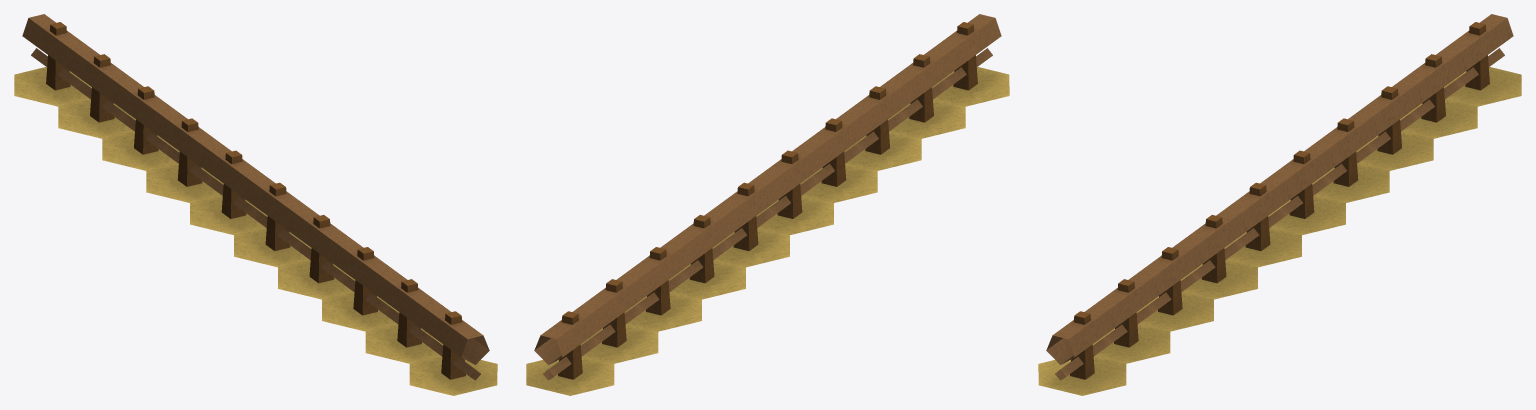
The model's file is BarriereDesert10_Centre.FBX.
3 views of the same model, side by side, from view 1: azimuth 30°, elevation 25°; view 2: azimuth 150°, elevation 25°; view 3: azimuth 330°, elevation 25° (orthographic).
Visible parts, largest first — view 1: BarriereDesert10_Centre; view 2: BarriereDesert10_Centre; view 3: BarriereDesert10_Centre.
Boxes of the visible parts, box(x1,y1,x2,y2) form: BarriereDesert10_Centre: box(14, 14, 497, 395); BarriereDesert10_Centre: box(526, 14, 1009, 395); BarriereDesert10_Centre: box(1038, 14, 1521, 395).
Bounding box in the file's own units: 1 × 0.6525 × 8.66.
